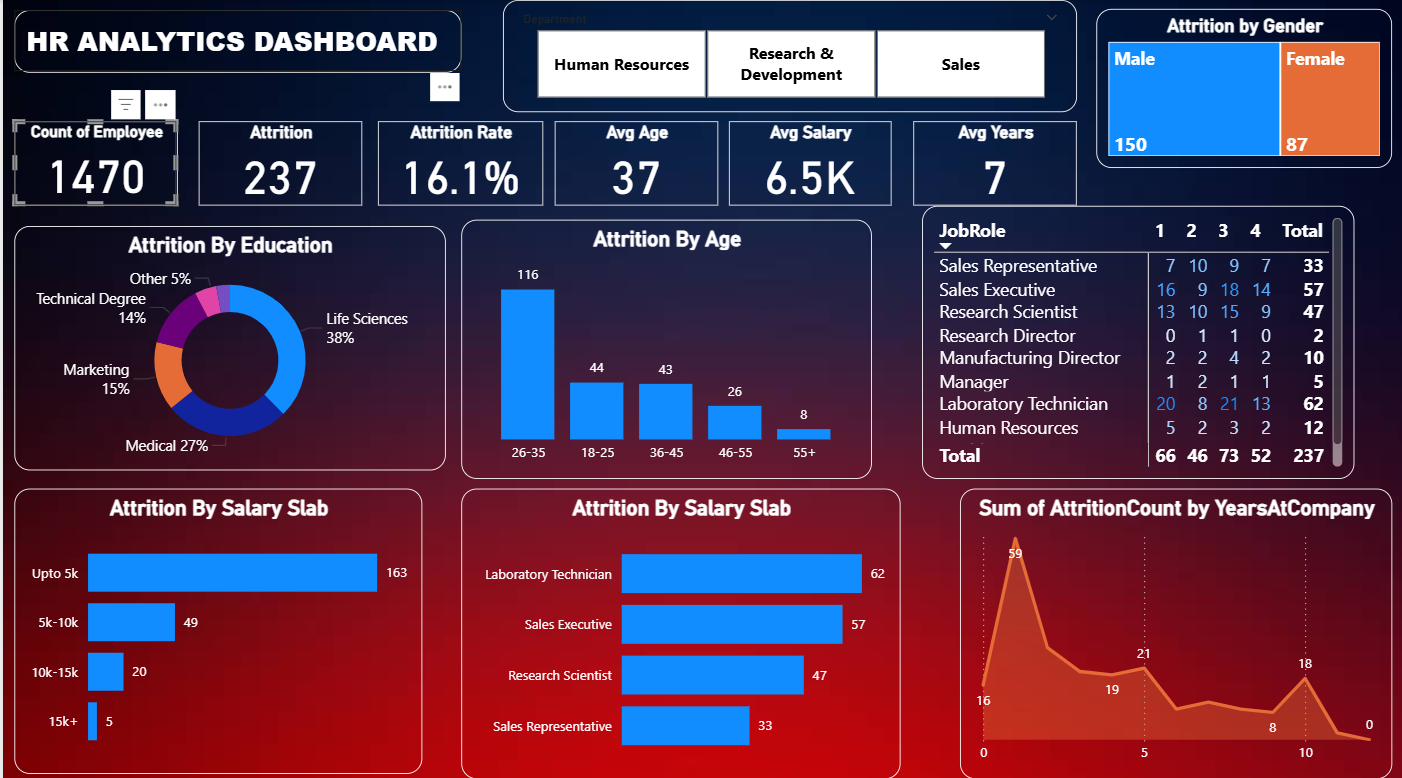

The dashboard page shown, as its layout file describes it:
{"tool":"powerbi","page":{"name":"Page 1","canvas":[1280,720],"ordinal":0},"visuals":[{"type":"card","title":"Count of Employee","fields":{"Values":["CountNonNull(HR_Analytics.EmpID)"]},"box":[9.9,110.6,149.1,77],"z":0},{"type":"card","title":"Attrition","fields":{"Values":["Sum(HR_Analytics.AttritionCount)"]},"box":[177.6,110.6,149.1,77],"z":1000},{"type":"card","title":"Attrition Rate","fields":{"Values":["HR_Analytics.Attrition Rate"]},"box":[341.6,110.6,150.3,77],"z":2000},{"type":"card","title":"Avg Age","fields":{"Values":["Avg(HR_Analytics.Age)"]},"box":[501.9,110.6,149.1,77],"z":3000},{"type":"card","title":"Avg Salary","fields":{"Values":["Avg(HR_Analytics.MonthlyIncome)"]},"box":[660.9,110.6,147.8,77],"z":4000},{"type":"card","title":"Avg Years","fields":{"Values":["Avg(HR_Analytics.YearsAtCompany)"]},"box":[828.6,110.6,149.1,77],"z":5000},{"type":"donutChart","title":"Attrition By Education","fields":{"Category":["HR_Analytics.EducationField"],"Y":["Sum(HR_Analytics.AttritionCount)"]},"box":[9.9,206.2,392.6,222.4],"z":6000},{"type":"columnChart","title":"Attrition By Age","fields":{"Category":["HR_Analytics.AgeGroup"],"Y":["Sum(HR_Analytics.AttritionCount)"]},"box":[417.4,200,373.9,236],"z":7000},{"type":"pivotTable","fields":{"Rows":["HR_Analytics.JobRole"],"Columns":["HR_Analytics.JobSatisfaction"],"Values":["Sum(HR_Analytics.AttritionCount)"]},"box":[837.3,187.6,393.8,248.5],"z":8000},{"type":"barChart","title":"Attrition By Salary Slab","fields":{"Category":["HR_Analytics.SalarySlab"],"Y":["Sum(HR_Analytics.AttritionCount)"]},"box":[9.9,444.7,371.4,259.6],"z":9000},{"type":"barChart","title":"Attrition By Salary Slab","fields":{"Y":["Sum(HR_Analytics.AttritionCount)"],"Category":["HR_Analytics.JobRole"]},"box":[417.4,444.7,400,264.6],"z":10000},{"type":"areaChart","fields":{"Y":["Sum(HR_Analytics.AttritionCount)"],"Category":["HR_Analytics.YearsAtCompany"]},"box":[870.8,444.7,393.8,264.6],"z":11000},{"type":"treemap","title":"Attrition by Gender","fields":{"Group":["HR_Analytics.Gender"],"Values":["Sum(HR_Analytics.AttritionCount)"]},"box":[995.4,8.5,269.4,145],"z":11001},{"type":"slicer","fields":{"Values":["HR_Analytics.Department"]},"box":[454.7,0,523,101.9],"z":11002},{"type":"textbox","box":[9.9,8.7,407.5,57.1],"z":11003}]}

Visuals, with their boxes in screenshot pixels (x1, y1, x2, y2), scaled from the page's 1280x720 canvas onto the 1402x778 screenshot:
"Count of Employee" card: box(11, 120, 174, 203)
"Attrition" card: box(195, 120, 358, 203)
"Attrition Rate" card: box(374, 120, 539, 203)
"Avg Age" card: box(550, 120, 713, 203)
"Avg Salary" card: box(724, 120, 886, 203)
"Avg Years" card: box(908, 120, 1071, 203)
"Attrition By Education" donutChart: box(11, 223, 441, 463)
"Attrition By Age" columnChart: box(457, 216, 867, 471)
pivotTable - HR_Analytics.JobRole x HR_Analytics.JobSatisfaction: box(917, 203, 1348, 471)
"Attrition By Salary Slab" barChart: box(11, 481, 418, 761)
"Attrition By Salary Slab" barChart: box(457, 481, 895, 766)
areaChart - Sum(HR_Analytics.AttritionCount) x HR_Analytics.YearsAtCompany: box(954, 481, 1385, 766)
"Attrition by Gender" treemap: box(1090, 9, 1385, 166)
slicer - HR_Analytics.Department: box(498, 0, 1071, 110)
textbox: box(11, 9, 457, 71)
